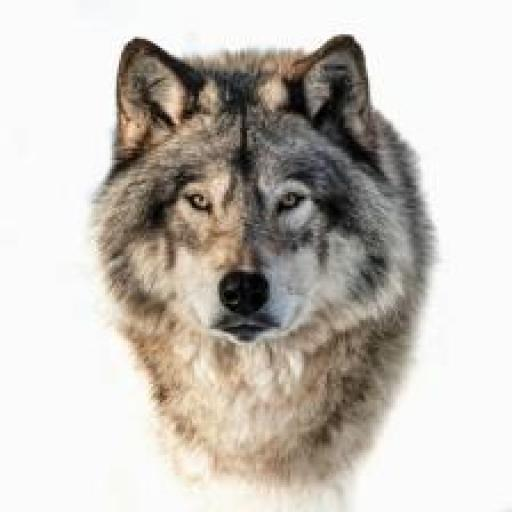wolf: (32, 9, 473, 511)
